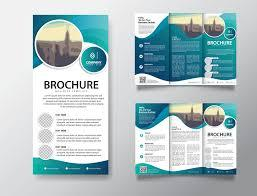paper: (33, 14, 109, 175), (135, 12, 238, 85), (136, 103, 237, 176)
